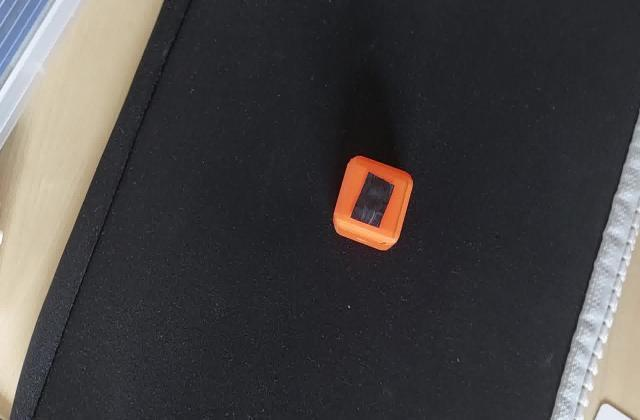black: (349, 172, 402, 222)
sticker: (330, 154, 414, 256)
